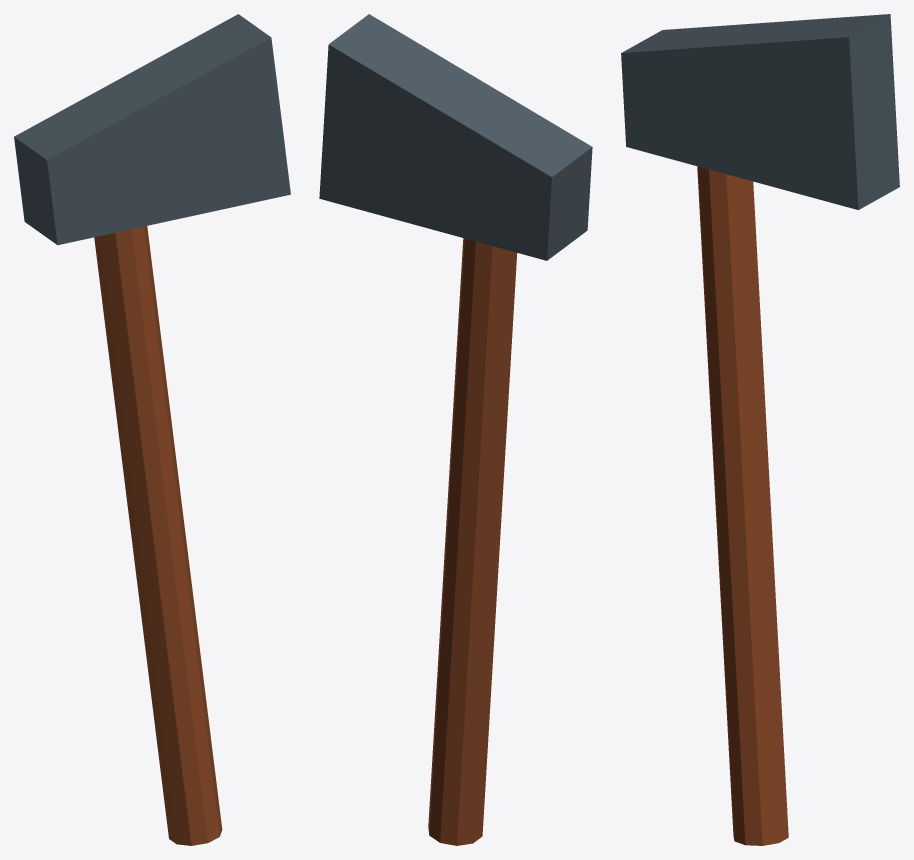
Rendered from first_person_axe.glb.
3 renders of one model, left to right at view 1: azimuth 30°, elevation 25°; view 2: azimuth 150°, elevation 25°; view 3: azimuth 330°, elevation 25°, orthographic. The views are drawn at different scales.
Parts seen in each view (by area): view 1: AxeHead, AxeHandle; view 2: AxeHead, AxeHandle; view 3: AxeHead, AxeHandle.
Part boxes in pixels (left/top/right/bottom): AxeHead: left=14, top=14, right=290, bottom=245; AxeHandle: left=94, top=226, right=222, bottom=845; AxeHead: left=319, top=14, right=592, bottom=260; AxeHandle: left=428, top=238, right=517, bottom=845; AxeHead: left=621, top=14, right=899, bottom=209; AxeHandle: left=697, top=166, right=788, bottom=845.
Size of the model in its own units: 0.7569 by 2.37 by 0.3181.
